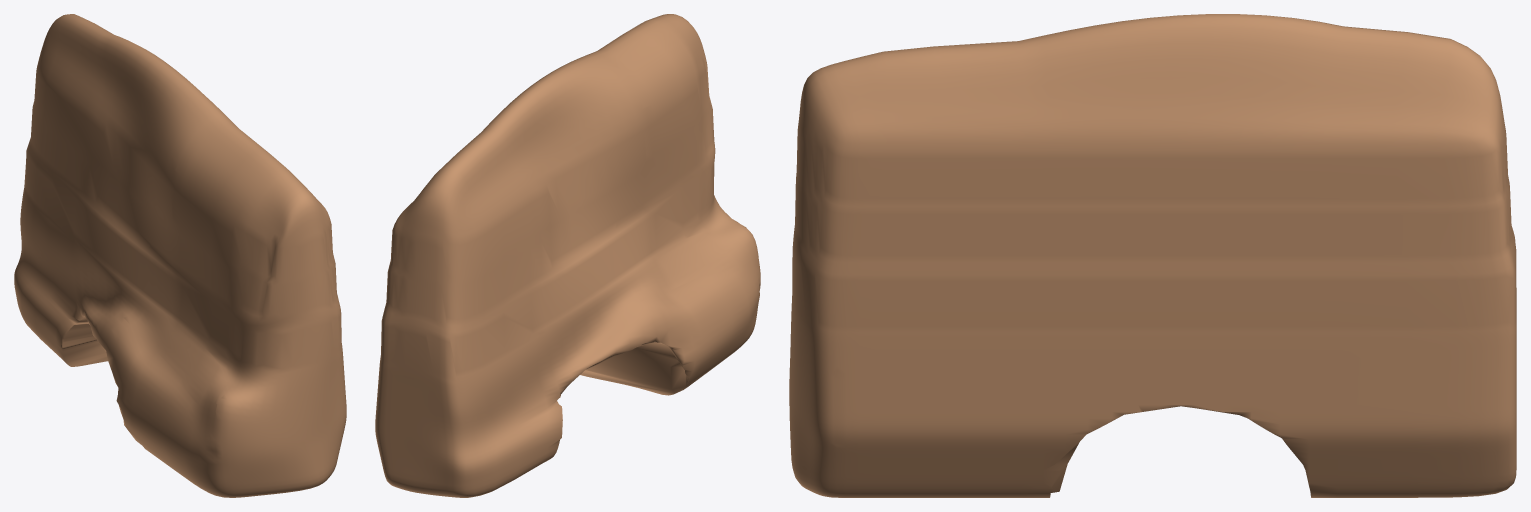
The model's file is doorway3 1.fbx.
The picture shows the model from 3 angles, left to right: view 1: azimuth 30°, elevation 25°; view 2: azimuth 150°, elevation 25°; view 3: azimuth 270°, elevation 25°; orthographic projection. The views are drawn at different scales.
Parts seen in each view (by area): view 1: Cube.003; view 2: Cube.003; view 3: Cube.003.
Boxes of the visible parts, x1,y1,x2,y2 form: Cube.003: (14, 14, 346, 497); Cube.003: (375, 14, 760, 497); Cube.003: (789, 14, 1516, 497).
Size of the model in its own units: 535 by 1129 by 1611.
